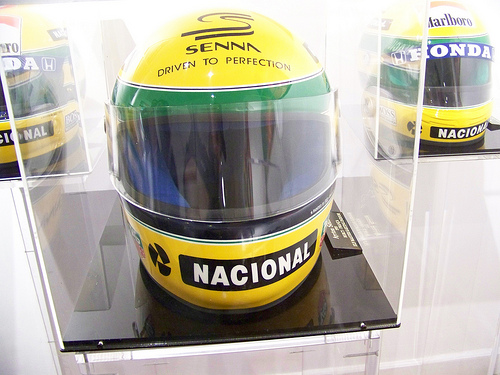helmet: (109, 4, 350, 308)
